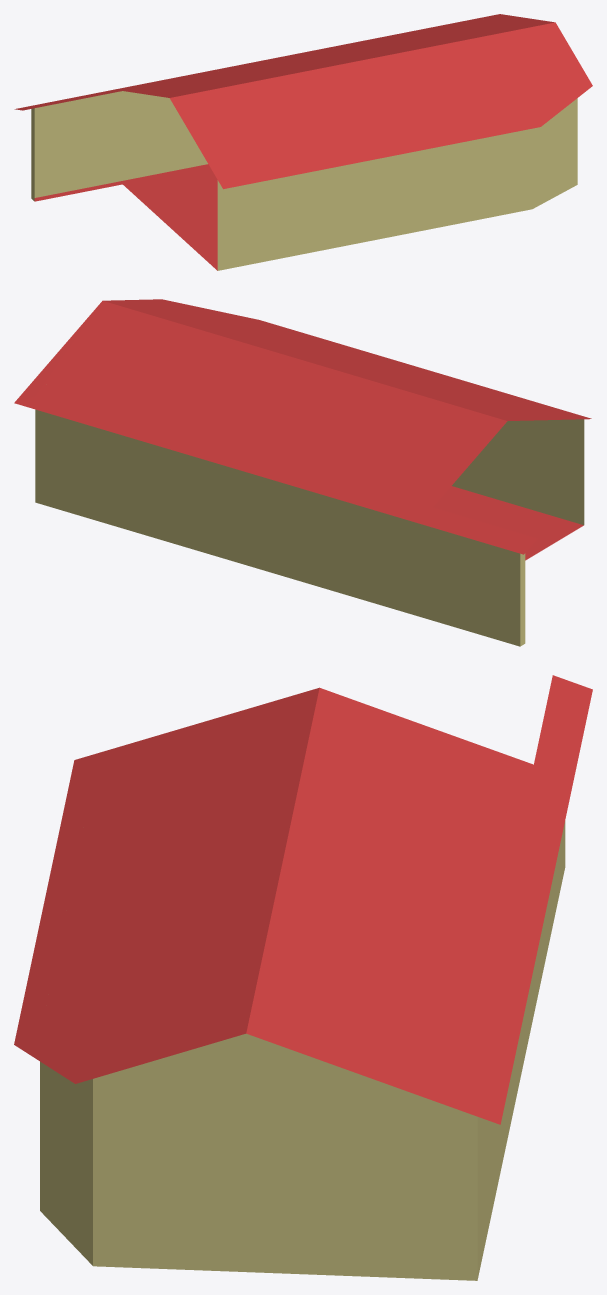
The picture shows the model from 3 angles, top to bottom: view 1: azimuth 30°, elevation 25°; view 2: azimuth 150°, elevation 25°; view 3: azimuth 270°, elevation 25°; orthographic projection. The views are drawn at different scales.
Bounding box in the file's own units: 30.45 × 17.05 × 8.1.
